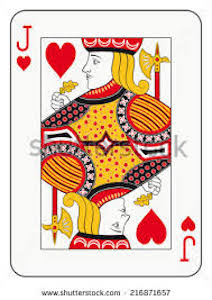JackOfHearts: (7, 7, 205, 282)
